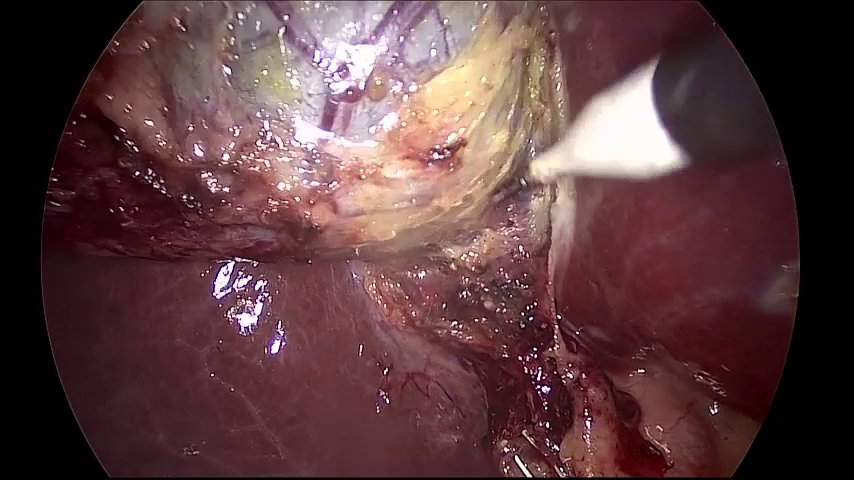lhook: (496, 22, 782, 201)
